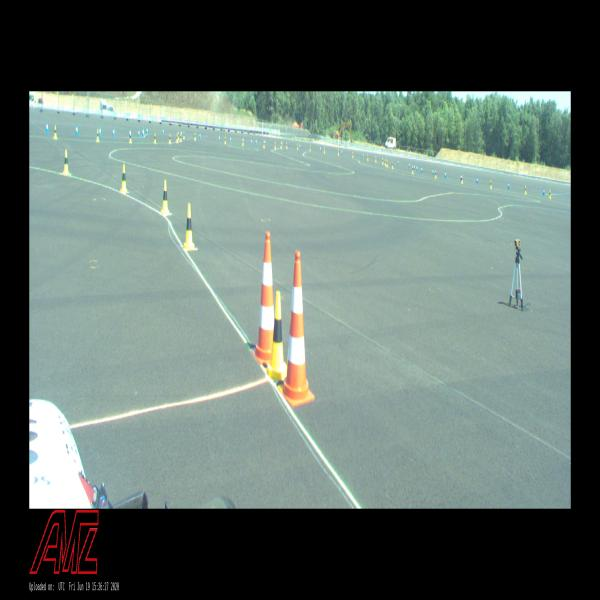blue_cone: (45, 121, 49, 133), (128, 128, 132, 138), (112, 127, 116, 137), (76, 125, 78, 136), (99, 126, 101, 137), (420, 166, 423, 173), (138, 128, 140, 137), (143, 128, 145, 137), (542, 187, 544, 195), (199, 132, 201, 140), (476, 176, 478, 184), (416, 165, 418, 172), (255, 138, 257, 145), (146, 128, 148, 134), (397, 160, 399, 166), (508, 182, 510, 188), (341, 150, 343, 156), (264, 139, 266, 145), (432, 168, 433, 176), (445, 170, 446, 178), (362, 154, 364, 158), (142, 128, 143, 136), (230, 136, 231, 143), (219, 135, 220, 142), (251, 138, 252, 145), (181, 130, 182, 137), (461, 173, 462, 180), (414, 164, 415, 171), (163, 128, 164, 134), (409, 162, 410, 168), (320, 147, 321, 151)
large_orange_cone: (278, 250, 315, 406), (252, 232, 274, 365)
yellow_cone: (265, 291, 287, 381), (184, 203, 196, 250), (162, 180, 169, 215), (120, 164, 128, 192), (63, 150, 69, 175), (96, 129, 99, 142), (54, 126, 57, 139), (129, 133, 132, 143), (524, 186, 527, 194), (411, 166, 414, 174), (154, 133, 156, 143), (381, 158, 384, 164), (169, 134, 171, 143), (176, 134, 178, 143), (490, 180, 492, 188), (549, 190, 551, 198), (434, 170, 436, 178), (242, 138, 244, 146), (461, 175, 463, 183), (180, 134, 182, 142), (177, 132, 179, 140), (392, 162, 394, 169), (183, 132, 185, 139), (263, 141, 265, 148), (274, 142, 276, 149), (194, 133, 196, 140), (386, 160, 388, 166), (375, 156, 377, 162), (367, 155, 369, 161), (280, 142, 282, 148), (309, 146, 311, 152), (225, 136, 226, 144), (385, 158, 386, 166), (297, 143, 298, 150), (286, 142, 287, 149), (338, 150, 339, 156), (352, 152, 353, 158), (324, 148, 325, 154)
